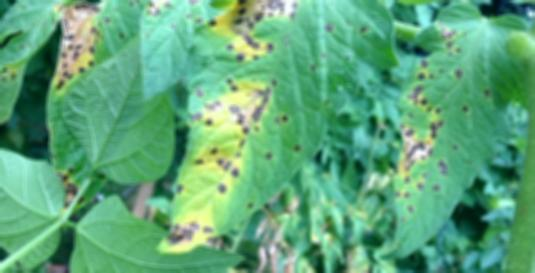Tomato Septoria leaf spot: (158, 0, 362, 254), (382, 1, 508, 251), (145, 0, 204, 112)
Tomato leaf: (0, 133, 66, 271)
